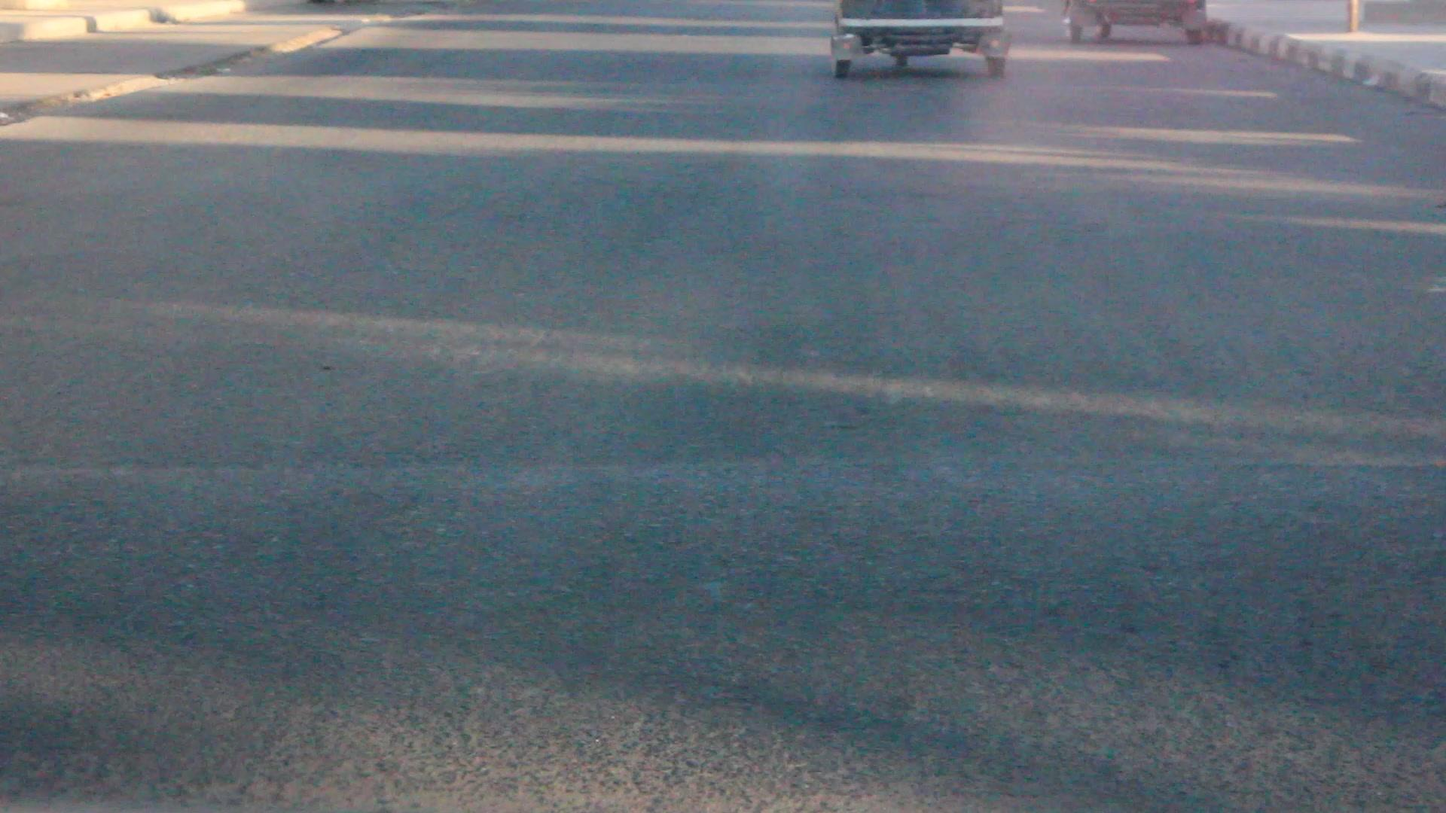Bump: (26, 455, 1446, 813)
